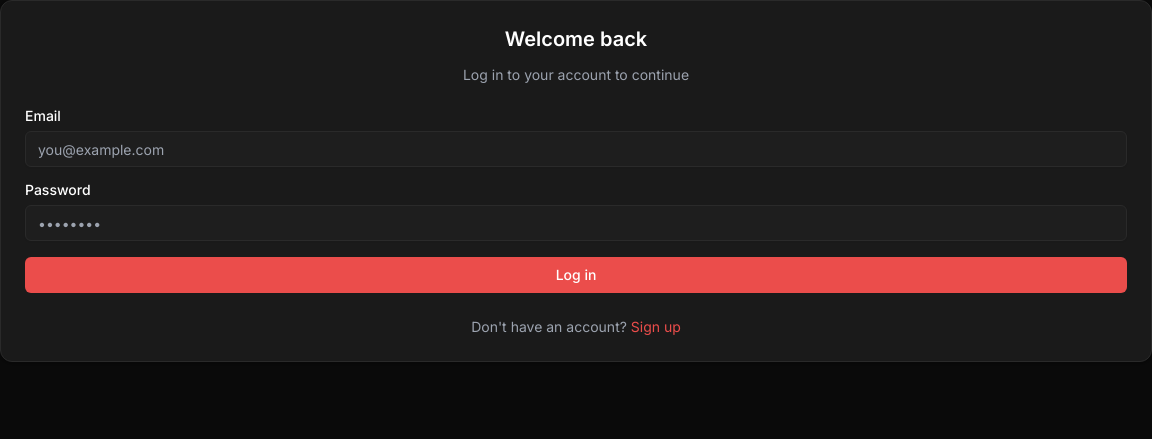
Test: LoginForm › displays error message when login fails
Type "test@example.com" into the field labelled "Email".
click(576, 149); type("test@example.com")  # box [25,131,1127,167]
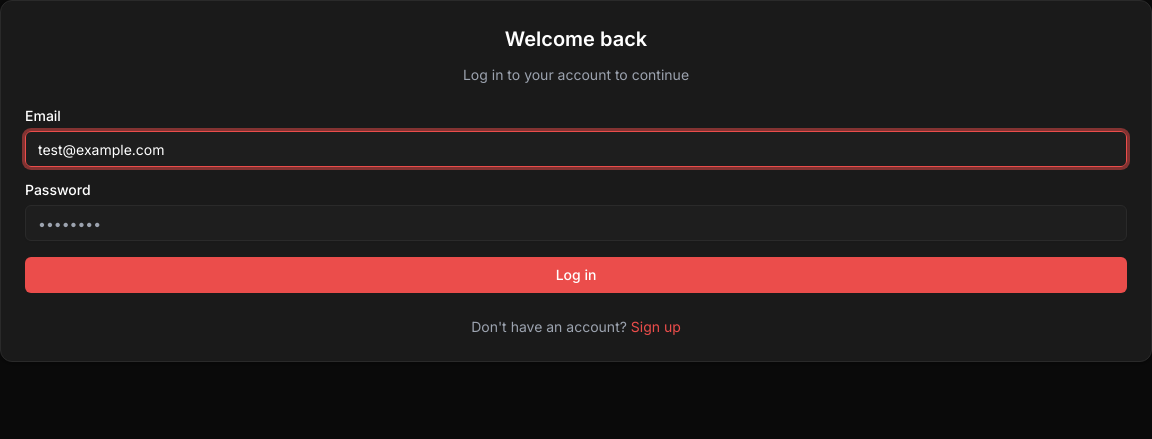
Type "wrongpassword" into the password field labelled "Password".
click(576, 223); type("wrongpassword")  # box [25,205,1127,241]
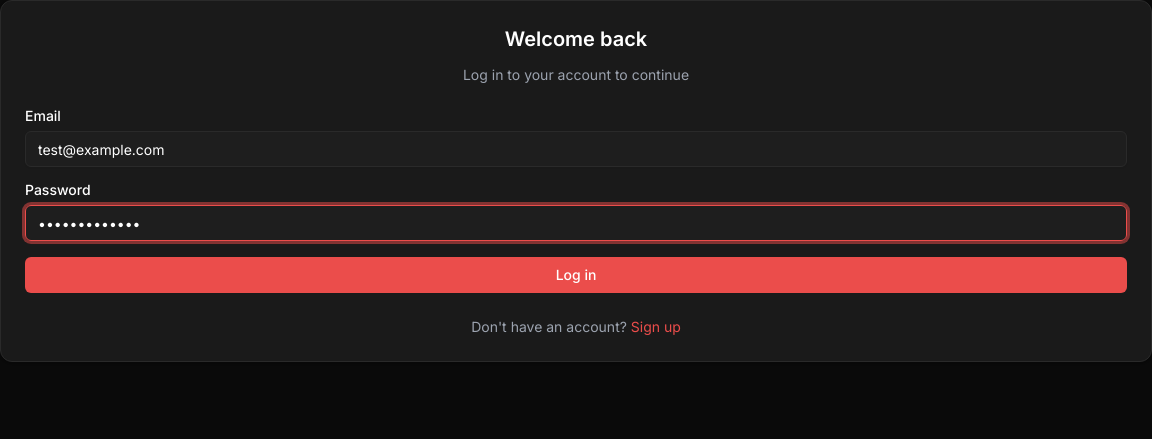
Click the button "Log in".
click(576, 275)  # box [25,257,1127,293]
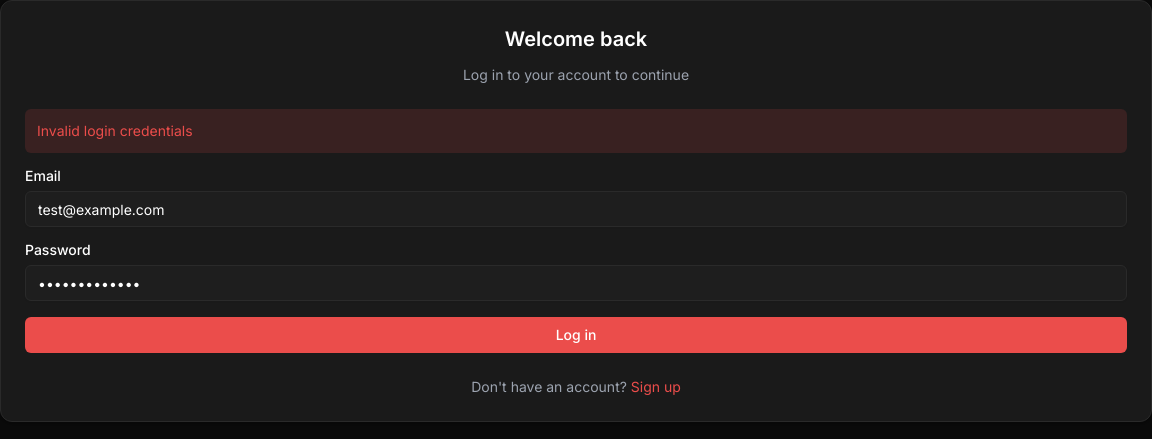
Result: the text "Invalid login credentials" is shown at [25,109,1127,153]
